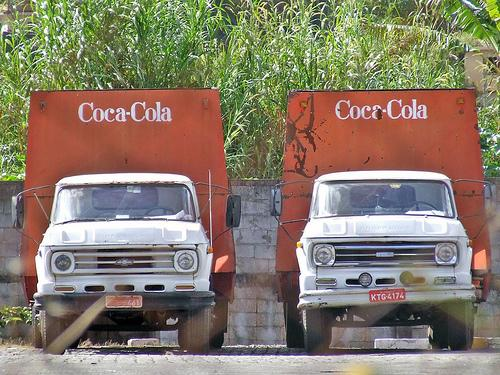truck: (11, 86, 243, 355), (276, 87, 497, 356)
